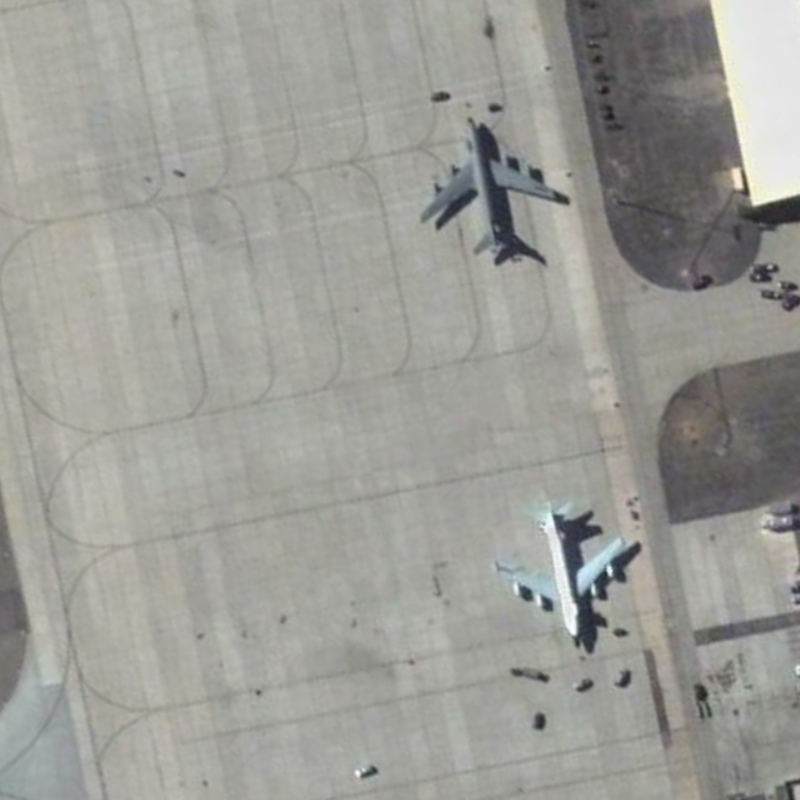A11: (492, 483, 642, 650)
A14: (419, 111, 568, 269)
